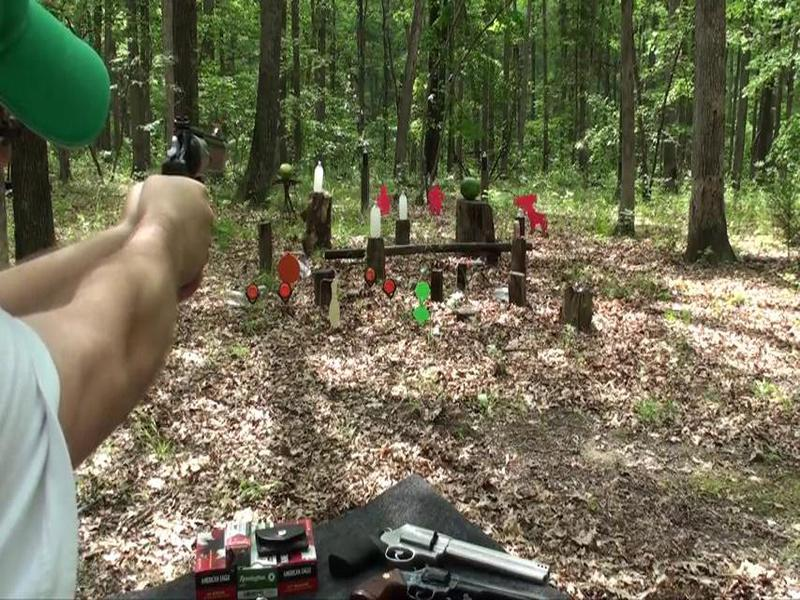Revolver: (137, 105, 243, 220)
